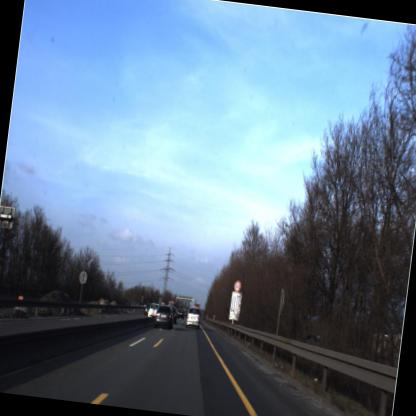prohibitory: (230, 277, 244, 295)
